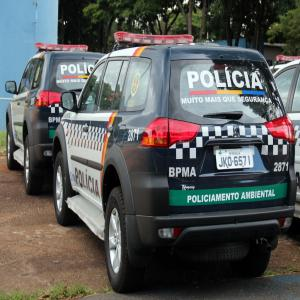Vehicle-registration-plate: (217, 149, 255, 171)
